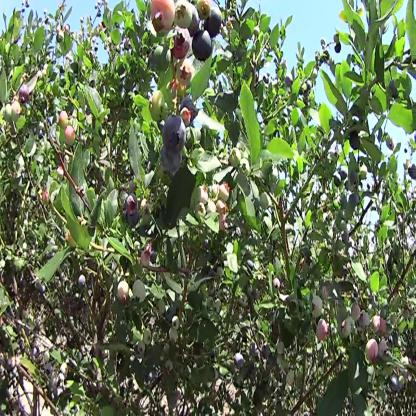intermediate: (150, 1, 177, 37), (168, 31, 191, 60), (63, 127, 82, 156), (364, 338, 382, 364), (117, 277, 133, 305), (135, 277, 148, 307), (217, 200, 227, 230), (318, 318, 327, 347), (57, 112, 72, 129), (18, 83, 30, 104), (220, 180, 231, 202), (141, 252, 151, 271)
mature: (162, 117, 190, 149), (155, 151, 187, 175), (192, 35, 213, 60), (177, 1, 194, 29), (206, 9, 222, 37), (125, 192, 140, 219), (233, 351, 251, 369), (386, 132, 400, 155), (350, 302, 362, 324), (387, 376, 401, 394), (350, 130, 360, 155), (152, 248, 162, 269), (408, 161, 416, 186), (76, 275, 87, 287), (381, 315, 387, 337)
young: (150, 91, 166, 124), (175, 62, 194, 88), (12, 95, 22, 128), (193, 186, 210, 205), (341, 318, 354, 341), (259, 190, 273, 210), (144, 323, 154, 349), (275, 359, 292, 374), (213, 297, 223, 318), (371, 316, 381, 335), (169, 329, 180, 346), (171, 314, 182, 330), (287, 370, 296, 389), (206, 294, 214, 315), (5, 99, 11, 125), (341, 165, 349, 184), (277, 342, 285, 357), (336, 172, 341, 191)
